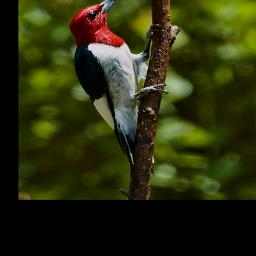Woodpecker: (68, 0, 168, 173)
